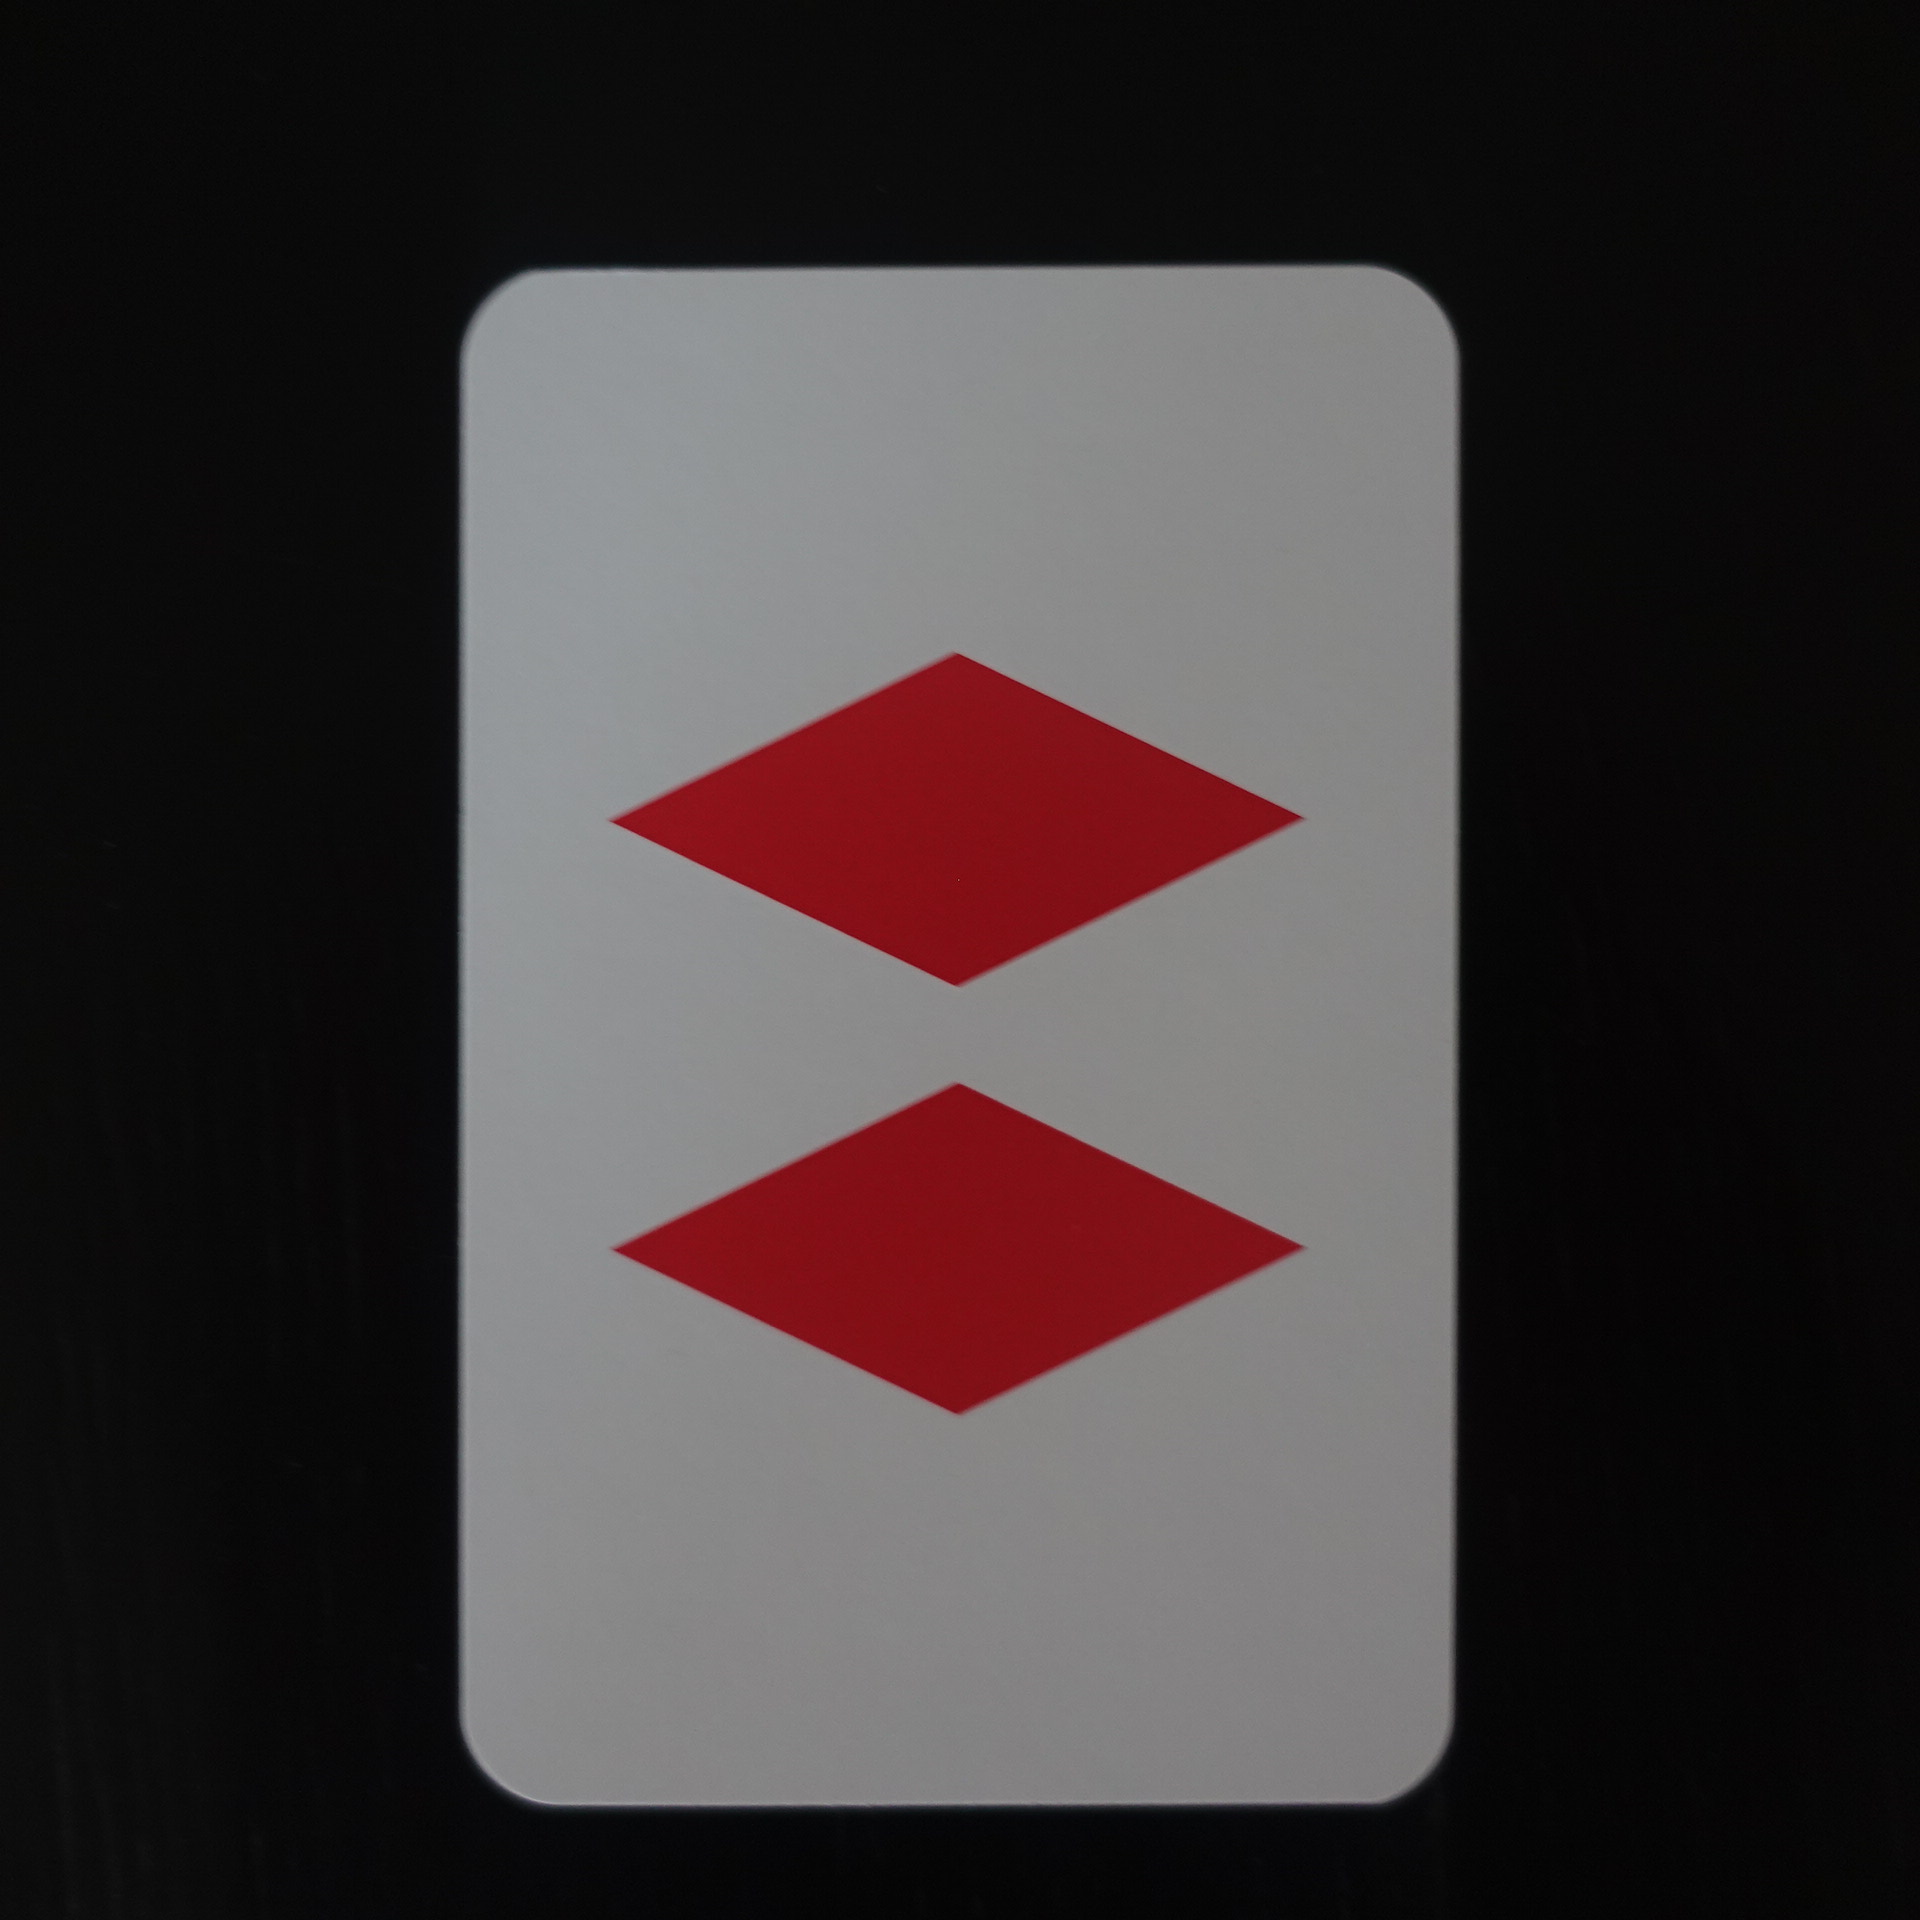c-2-f-d-r: (422, 234, 1480, 1839)
